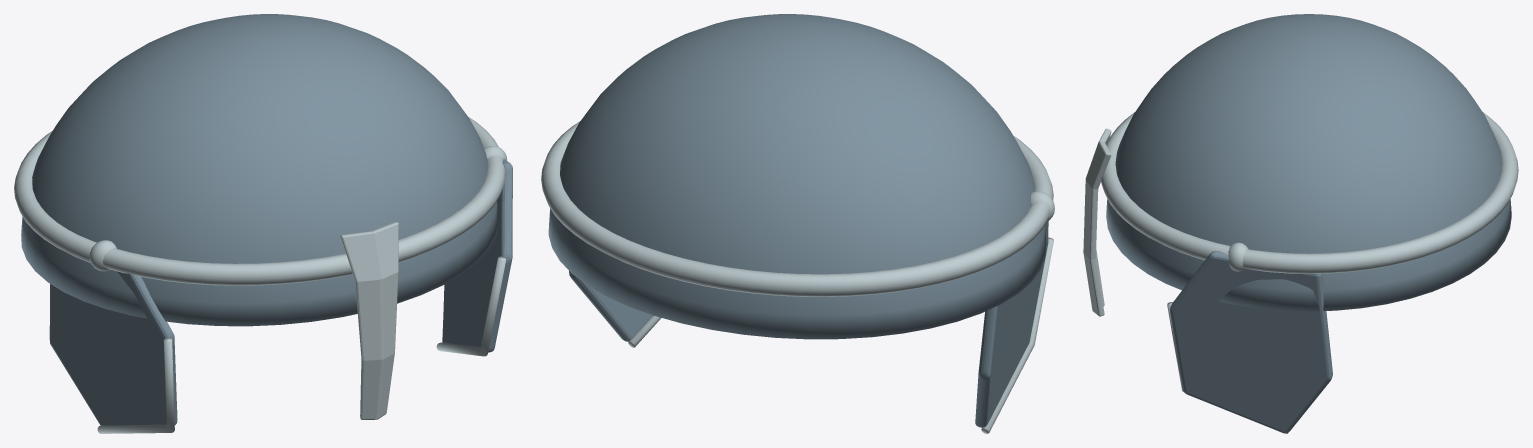
File: iron-helm.glb
3 views of the same model, side by side, from view 1: azimuth 30°, elevation 25°; view 2: azimuth 150°, elevation 25°; view 3: azimuth 270°, elevation 25° (orthographic). The views are drawn at different scales.
Parts seen in each view (by area): view 1: Fitted iron dome, Tapered articulated cheek plate, Forged brow binding, Integrated forged nasal blade, Tapered articulated cheek plate.001, Cheek edge binding, Cheek edge binding.001, Cheek hinge; view 2: Fitted iron dome, Forged brow binding, Tapered articulated cheek plate, Tapered articulated cheek plate.001, Cheek edge binding; view 3: Fitted iron dome, Tapered articulated cheek plate.001, Forged brow binding, Integrated forged nasal blade, Cheek hinge.001.
Boxes of the visible parts, x1,y1,x2,y2 form: Fitted iron dome: [21, 14, 497, 326]; Tapered articulated cheek plate: [49, 271, 177, 425]; Forged brow binding: [14, 117, 505, 285]; Integrated forged nasal blade: [340, 222, 398, 419]; Tapered articulated cheek plate.001: [442, 159, 512, 352]; Cheek edge binding: [97, 338, 174, 433]; Cheek edge binding.001: [436, 256, 506, 356]; Cheek hinge: [89, 240, 116, 271]; Fitted iron dome: [548, 14, 1046, 339]; Forged brow binding: [541, 121, 1053, 296]; Tapered articulated cheek plate: [975, 221, 1048, 427]; Tapered articulated cheek plate.001: [569, 271, 652, 341]; Cheek edge binding: [981, 237, 1053, 433]; Fitted iron dome: [1106, 14, 1511, 311]; Tapered articulated cheek plate.001: [1170, 251, 1332, 433]; Forged brow binding: [1100, 112, 1518, 273]; Integrated forged nasal blade: [1083, 128, 1111, 316]; Cheek hinge.001: [1228, 242, 1248, 271].
Bounding box in the file's own units: 0.822 × 0.6263 × 0.7723.
